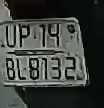1: (40, 56, 50, 81), (39, 22, 48, 47)
2: (64, 55, 78, 81)
3: (50, 56, 64, 81)
4: (47, 23, 62, 48)
8: (26, 57, 41, 84)
B: (4, 57, 16, 82)
L: (15, 58, 28, 82)
P: (17, 23, 31, 49)
U: (5, 24, 18, 50)
